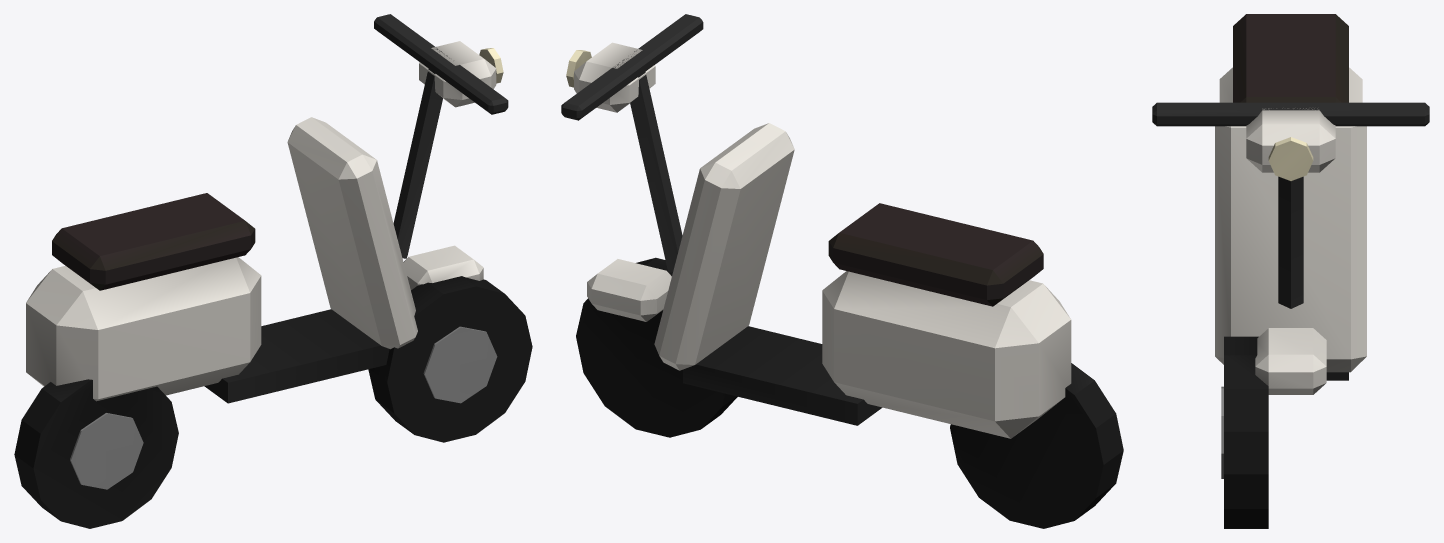
The model's file is scooter-BRzKpOl4.glb.
The picture shows the model from 3 angles, left to right: view 1: azimuth 30°, elevation 25°; view 2: azimuth 150°, elevation 25°; view 3: azimuth 270°, elevation 25°; orthographic projection. The views are drawn at different scales.
Bounding box in the file's own units: 1.51 × 1.03 × 0.62.
